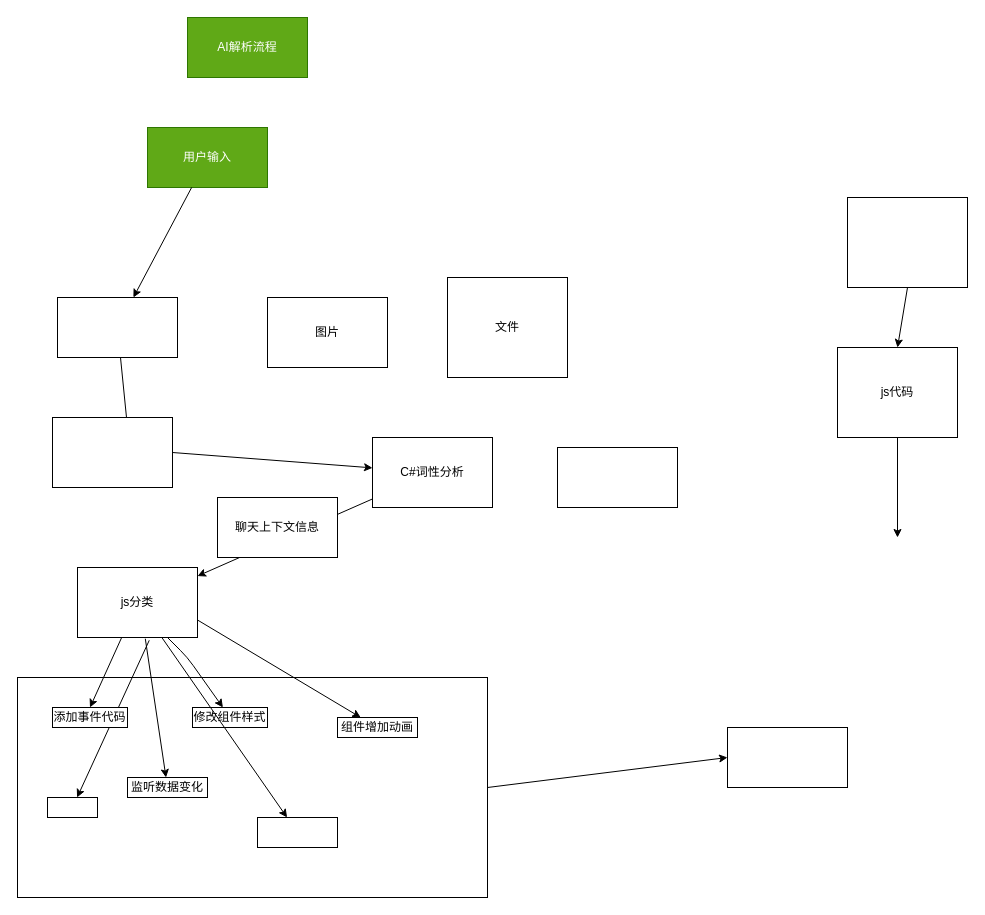
The diagram is 985 pixels wide and 915 high, and some of its shapes have lost their labels. Each missing label, with the centre of its shape:
"AI配置" goes at pixel 907 242.
"匹配最佳配置" goes at pixel 787 757.
"后端语法分析/分类" goes at pixel 112 452.
"文字" goes at pixel 117 327.
"更新组件数据" goes at pixel 297 832.
"请求数据" goes at pixel 72 807.
